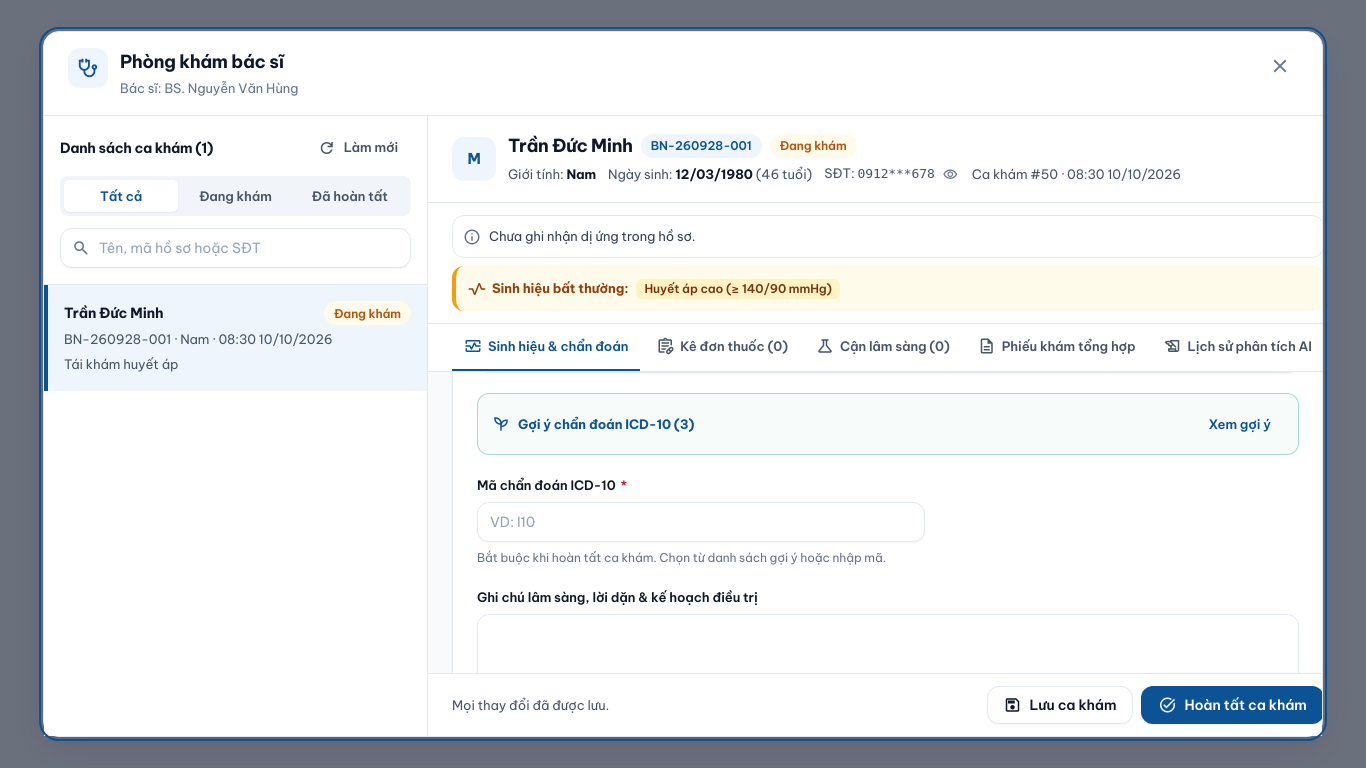
Test: Khám bệnh – giao diện Phòng khám bác sĩ (VisitDashboard) › lưu ca khám: gửi chẩn đoán lên máy chủ và chỉ báo thành công sau khi máy chủ phản hồi
(page scrolled)
Type "i10" into the field labelled "Mã chẩn đoán ICD-10 *" at {"x": 701, "y": 522}, box 477,502 -> 925,542
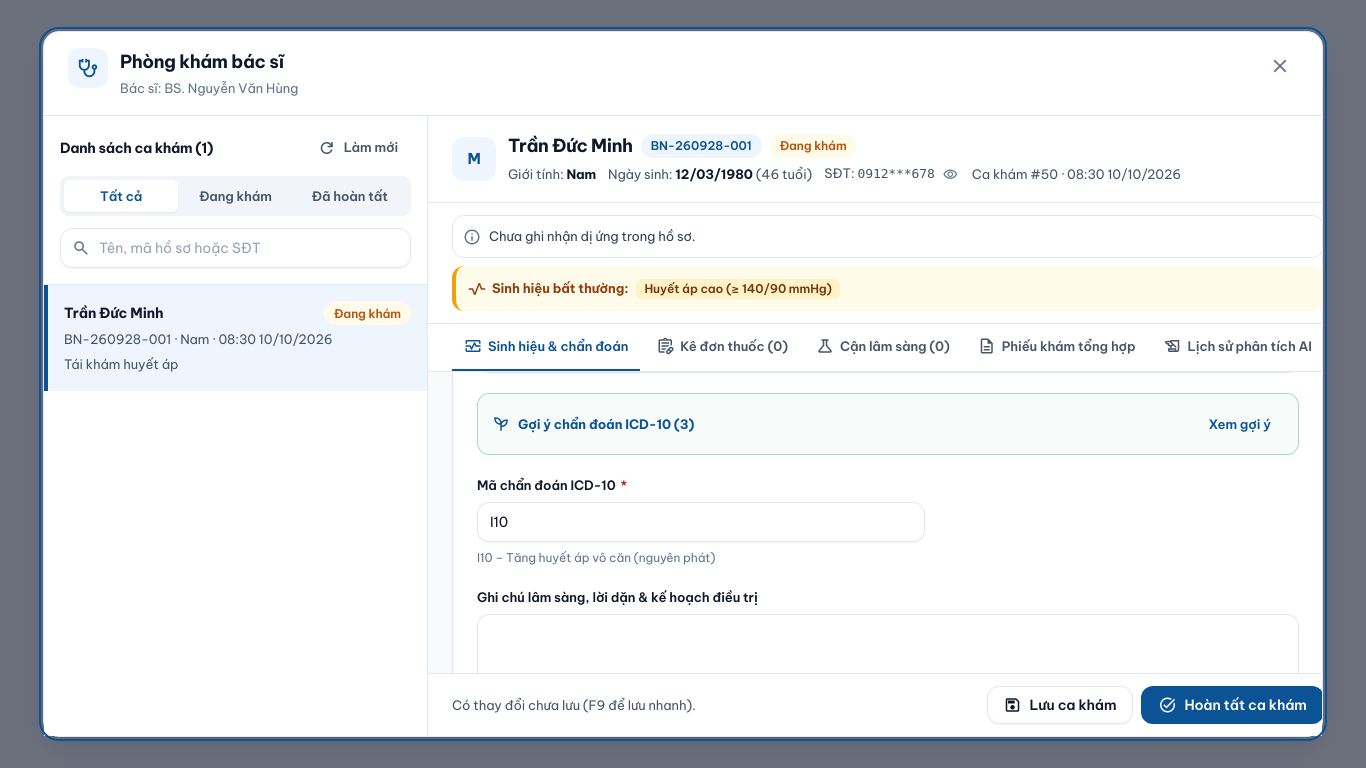
Click the button "Lưu ca khám" at {"x": 1060, "y": 705}, box 986,686 -> 1133,724
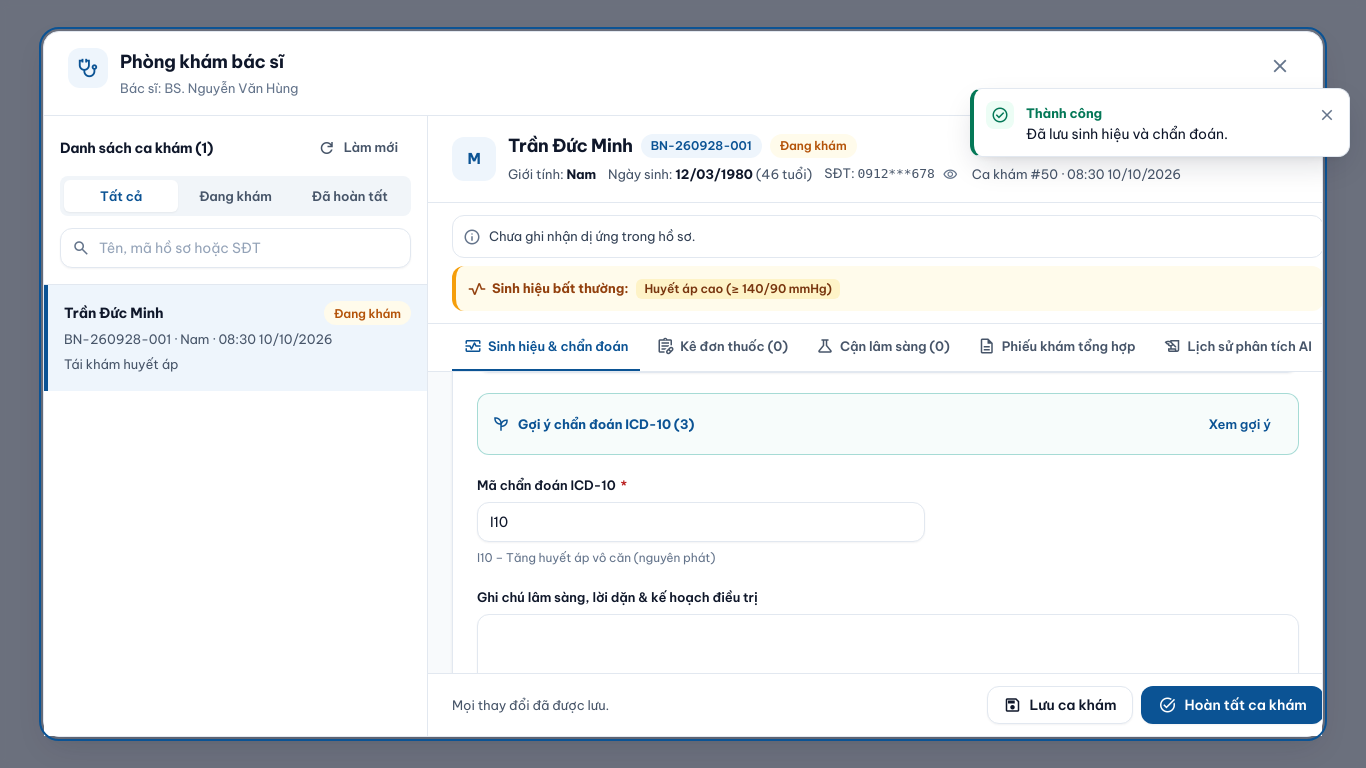
Expected: the text "Đã lưu sinh hiệu và chẩn đoán." is shown, 1026,125 -> 1228,143
